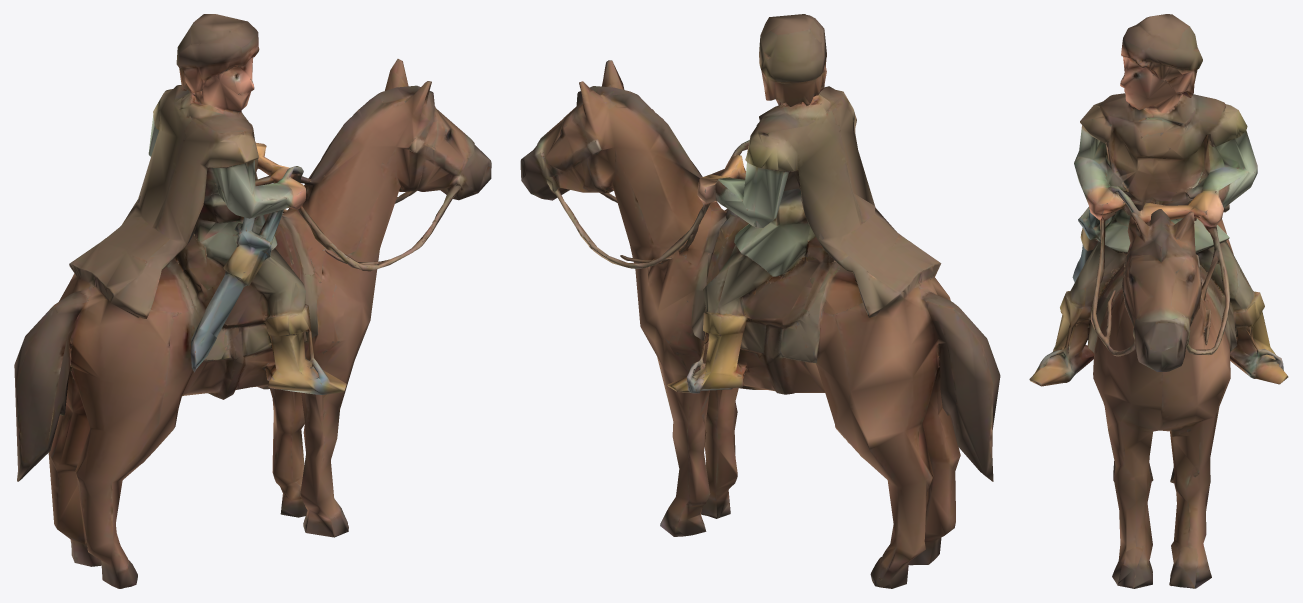
File: cavalier.glb
3 renders of one model, left to right at view 1: azimuth 30°, elevation 25°; view 2: azimuth 150°, elevation 25°; view 3: azimuth 270°, elevation 25°, orthographic.
Bounding box in the file's own units: 1.87 × 2 × 0.9122.
1 material, 1 textured.
